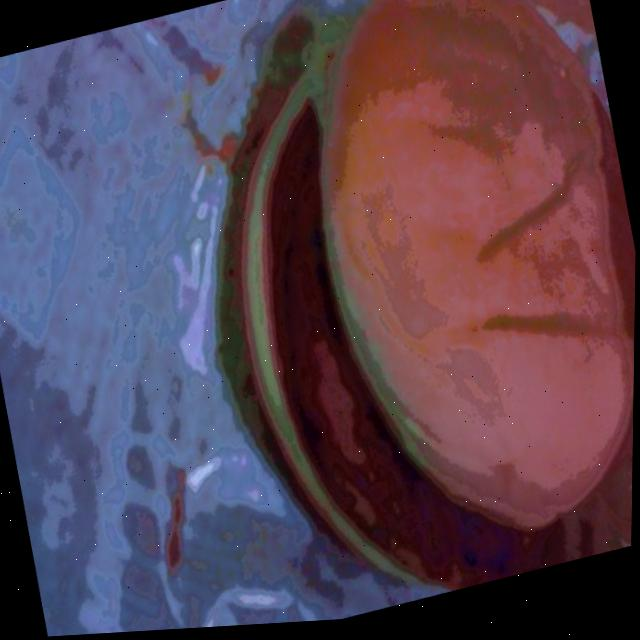汉堡快餐: (187, 0, 640, 631)
